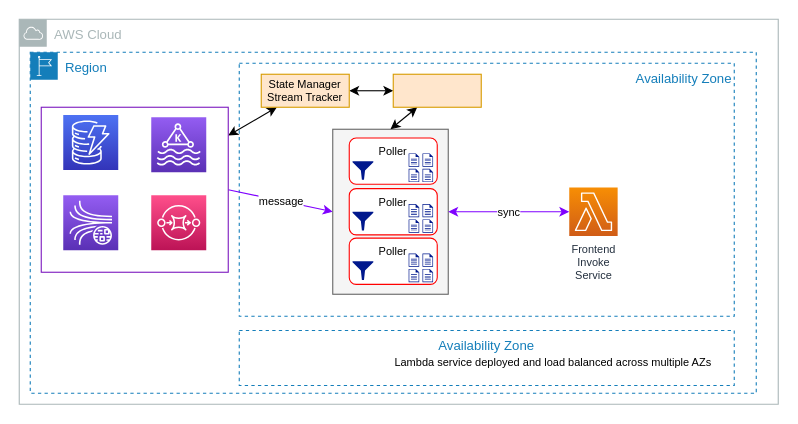
The diagram is 798 pixels wide and 424 high, and some of its shapes have lost their labels. The centre of each missing label's shape, as x and y in pixels:
"DynamoDB streams" belongs at (x=90, y=142).
"Kinesis data streams" belongs at (x=90, y=222).
"Leasing svc" belongs at (x=436, y=90).
"MSK" belongs at (x=178, y=144).
"SQS" belongs at (x=178, y=222).
